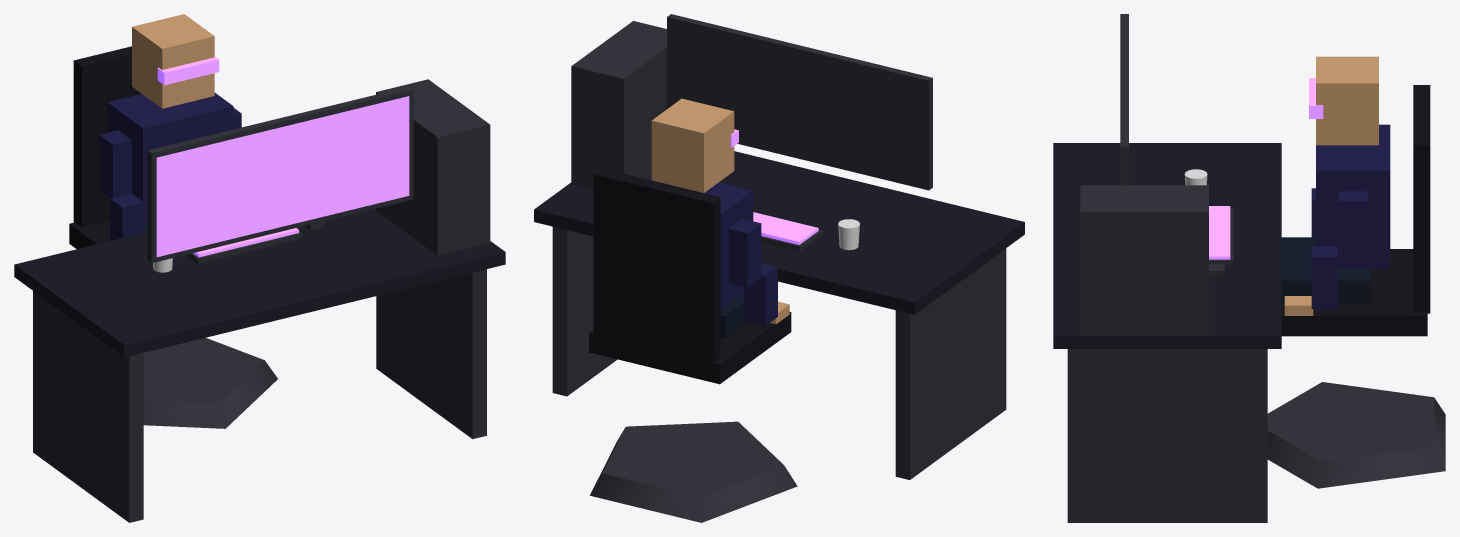
The model's file is character.glb.
The picture shows the model from 3 angles, left to right: view 1: azimuth 30°, elevation 25°; view 2: azimuth 150°, elevation 25°; view 3: azimuth 270°, elevation 25°; orthographic projection. The views are drawn at different scales.
Visible parts, largest first — view 1: Desk, Monitor, Chair, Head, Spine, LeftArm, LeftForeArm; view 2: Desk, Chair, Monitor, Head, Spine, LeftArm, LeftForeArm, Hips; view 3: Desk, Chair, Spine, Head, Hips, RightArm, RightForeArm, Monitor, RightHand.
Part boxes in pixels (x1,y1,x2,y2): Desk: (14, 79, 505, 522); Monitor: (147, 86, 413, 263); Chair: (69, 46, 277, 428); Head: (132, 14, 219, 108); Spine: (107, 93, 233, 222); LeftArm: (99, 130, 131, 198); LeftForeArm: (110, 193, 143, 240); Desk: (534, 21, 1024, 479); Chair: (589, 168, 797, 522); Monitor: (667, 14, 932, 190); Head: (651, 98, 738, 192); Spine: (648, 177, 753, 308); LeftArm: (728, 218, 761, 287); LeftForeArm: (744, 263, 777, 325); Hips: (720, 292, 747, 338); Desk: (1053, 143, 1281, 522); Chair: (1267, 85, 1445, 488); Spine: (1316, 124, 1390, 268); Head: (1309, 56, 1378, 145); Hips: (1281, 237, 1370, 303); RightArm: (1339, 191, 1367, 257); RightForeArm: (1311, 246, 1337, 308); Monitor: (1120, 14, 1128, 185); RightHand: (1284, 296, 1313, 315).
Bounding box in the file's own units: 1.6 × 1.44 × 1.37.
